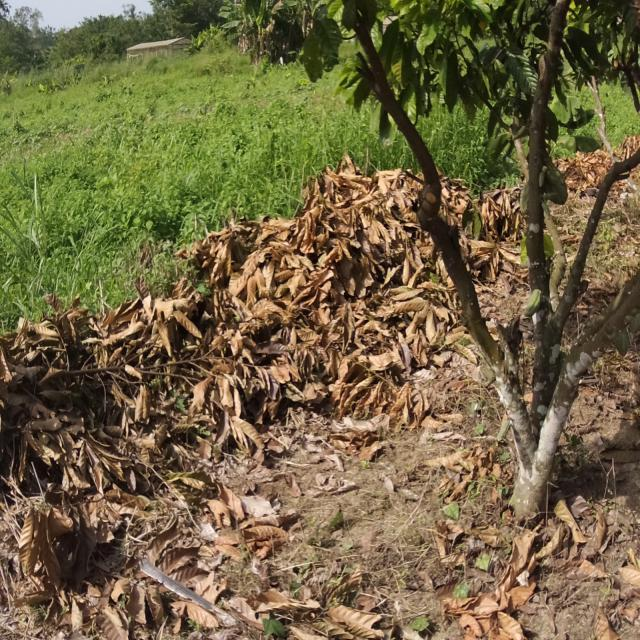Immature: (521, 282, 549, 320)
Mature_Unripe: (540, 161, 577, 217)
